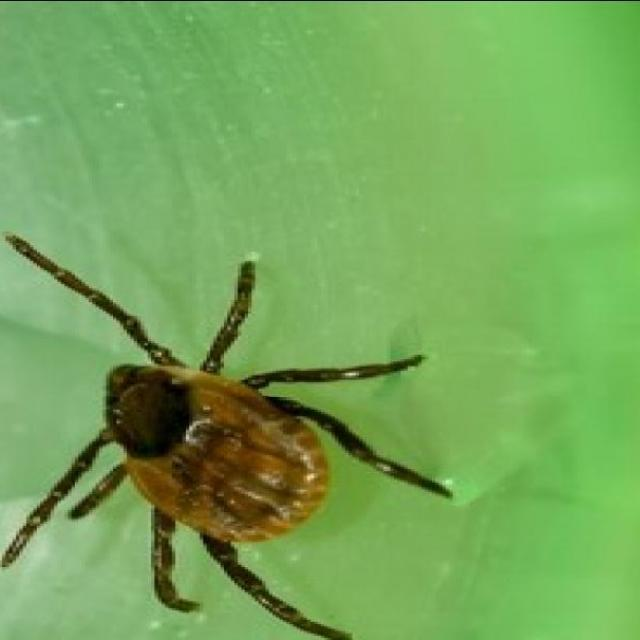Rhipicephalus Sanguineus-F: (0, 233, 449, 639)
